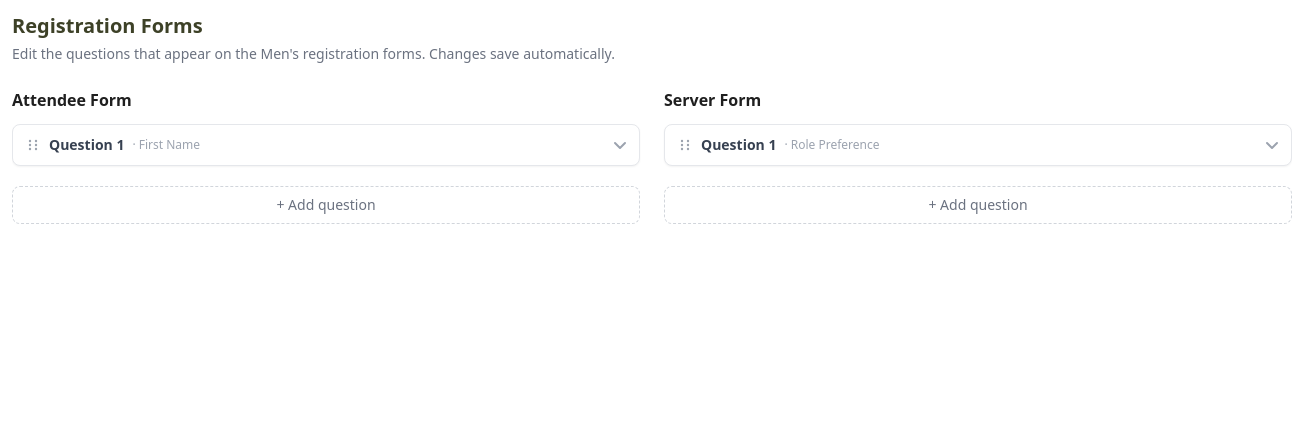
it: FormsEditor page › expands a row when the header is clicked and shows editable label, type, required
expect the text "Question 1" below "Attendee Form" is shown: met, box [49, 135, 124, 154]
// Click the first expand button
Step 1. Click the button "Question 1 · First Name" → [87, 144], box [25, 135, 627, 154]
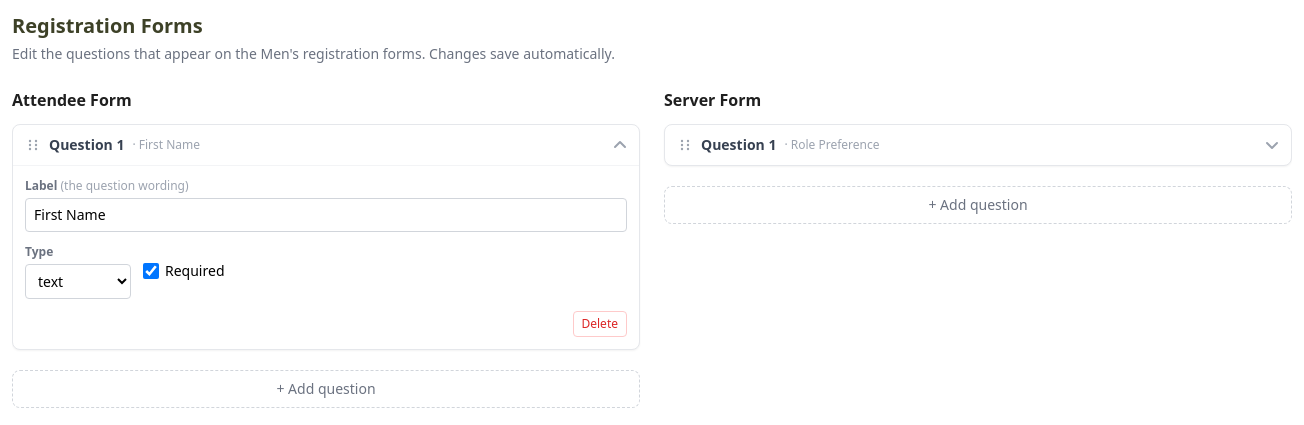
expect the field named "label for first_name" is shown: met, box [25, 198, 627, 232]
expect the dropdown named "type for first_name" is shown: met, box [25, 264, 131, 299]
expect the checkbox named "required for first_name" is shown: met, box [143, 262, 159, 278]
